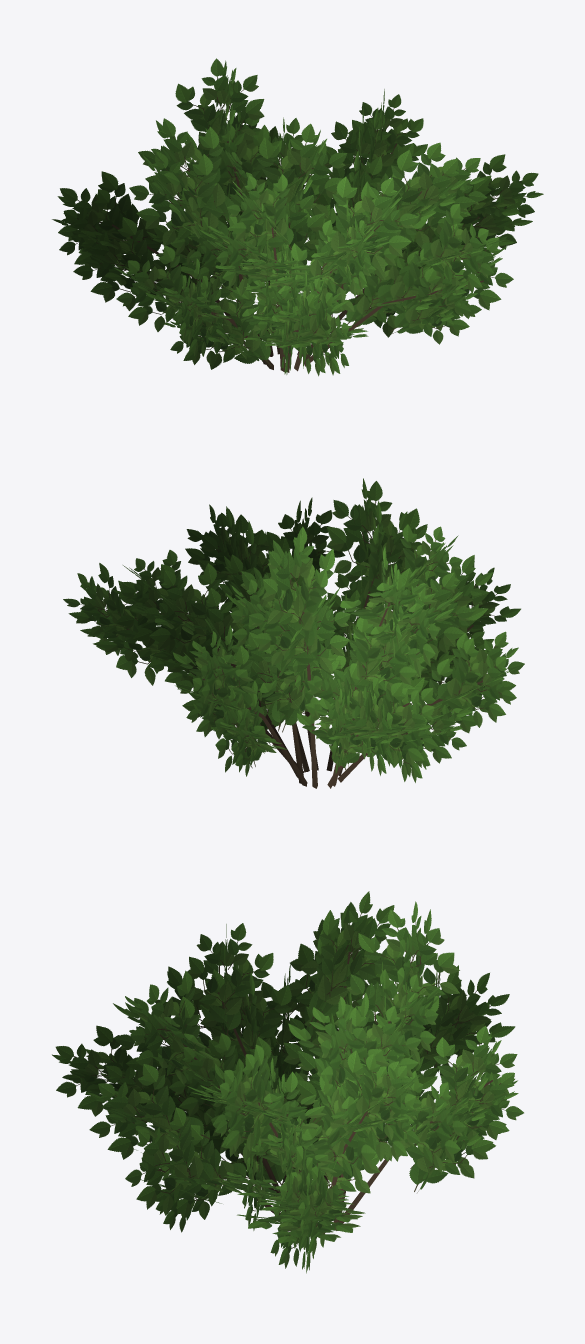
The model's file is Tall Shrub 10.glb.
The picture shows the model from 3 angles, top to bottom: view 1: azimuth 30°, elevation 25°; view 2: azimuth 150°, elevation 25°; view 3: azimuth 270°, elevation 25°; orthographic projection. The views are drawn at different scales.
Visible parts, largest first — view 1: Tall Shrub 10; view 2: Tall Shrub 10; view 3: Tall Shrub 10.
Boxes of the visible parts, x1=… form: Tall Shrub 10: x1=52, y1=58, x2=543, y2=376; Tall Shrub 10: x1=63, y1=478, x2=524, y2=788; Tall Shrub 10: x1=52, y1=891, x2=523, y2=1273.
Bounding box in the file's own units: 3.72 × 2.37 × 3.22.
1 material, 1 textured.
